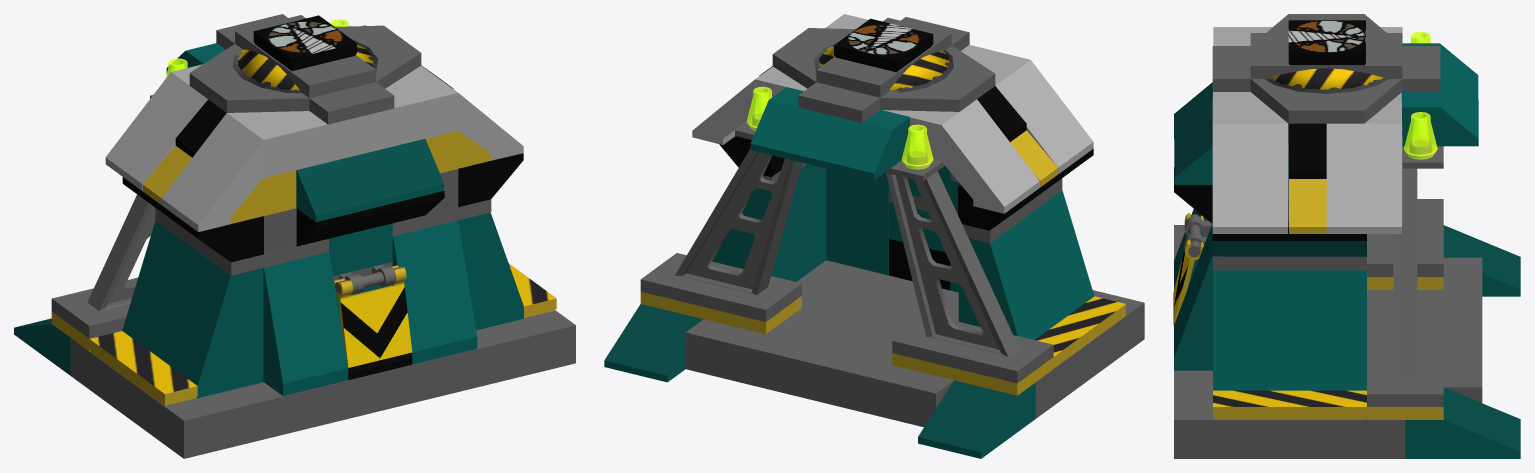
The model's file is SupportStation.fbx.
The picture shows the model from 3 angles, left to right: view 1: azimuth 30°, elevation 25°; view 2: azimuth 150°, elevation 25°; view 3: azimuth 270°, elevation 25°; orthographic projection. The views are drawn at different scales.
Parts seen in each view (by area): view 1: Slope2x2x3, Plate6x6.007, Plate6x6.011, Plate6x6.003, Plate6x6.012, Plate6x6.002, Plate6x6.014, Plate6x6.015; view 2: Plate6x6.014, Plate6x6.003, Slope2x2x3, Plate6x6, Plate6x6.011, Plate6x6.007, Plate6x6.012, Plate6x6.002, Plate6x6.013; view 3: Plate6x6.003, Slope2x2x3, Plate6x6.011, Plate6x6.007, Plate6x6.012, Plate6x6.014, Plate6x6, Plate6x6.002, Plate6x6.013, Plate6x6.015.
Part boxes in pixels (left/top/right/bottom): Slope2x2x3: left=122, top=212, right=523, bottom=398; Plate6x6.007: left=70, top=169, right=575, bottom=458; Plate6x6.011: left=105, top=25, right=523, bottom=231; Plate6x6.003: left=14, top=43, right=523, bottom=380; Plate6x6.012: left=189, top=14, right=421, bottom=124; Plate6x6.002: left=89, top=15, right=556, bottom=405; Plate6x6.014: left=51, top=95, right=155, bottom=338; Plate6x6.015: left=334, top=265, right=412, bottom=367; Plate6x6.014: left=640, top=114, right=1053, bottom=383; Plate6x6.003: left=604, top=66, right=1093, bottom=458; Slope2x2x3: left=712, top=164, right=1094, bottom=339; Plate6x6: left=640, top=292, right=1053, bottom=427; Plate6x6.011: left=692, top=14, right=1093, bottom=213; Plate6x6.007: left=763, top=163, right=1144, bottom=418; Plate6x6.012: left=772, top=17, right=995, bottom=122; Plate6x6.002: left=712, top=18, right=1125, bottom=368; Plate6x6.013: left=746, top=86, right=933, bottom=169; Plate6x6.003: left=1174, top=43, right=1520, bottom=458; Slope2x2x3: left=1174, top=157, right=1366, bottom=390; Plate6x6.011: left=1212, top=27, right=1402, bottom=233; Plate6x6.007: left=1174, top=144, right=1405, bottom=458; Plate6x6.012: left=1212, top=14, right=1440, bottom=123; Plate6x6.014: left=1367, top=141, right=1443, bottom=406; Plate6x6: left=1367, top=257, right=1482, bottom=419; Plate6x6.002: left=1213, top=20, right=1366, bottom=419; Plate6x6.013: left=1404, top=31, right=1437, bottom=159; Plate6x6.015: left=1173, top=212, right=1203, bottom=325.
Size of the model in its own units: 0.6014 by 0.4676 by 0.4529.
